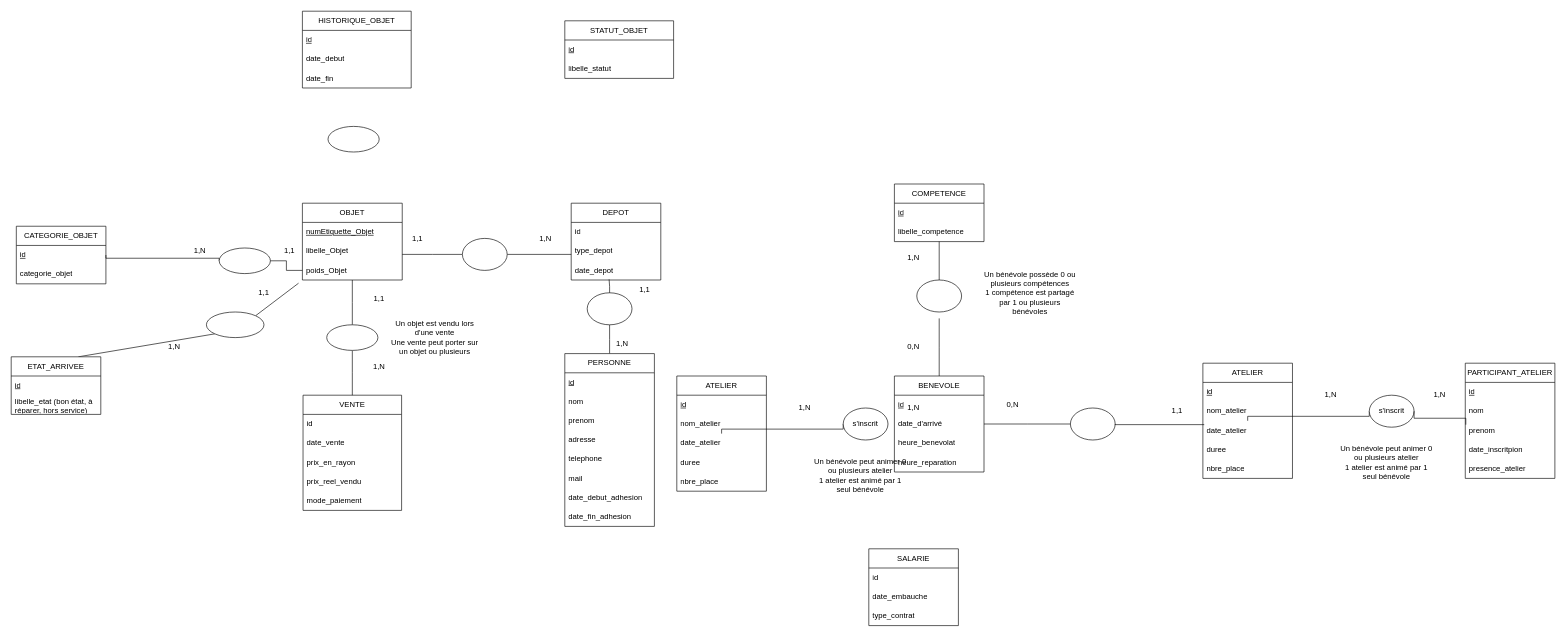
This 1566x637 diagram has some shape labels left out. The shapes that lost their labels are listed below. From the top down, each one's centre as x and y in pixels, then its label:
(x=353, y=139): trace
(x=244, y=260): appartient à
(x=484, y=254): contient
(x=609, y=308): réalise
(x=939, y=295): possede
(x=235, y=324): arrive dans
(x=352, y=337): est mis en
(x=1092, y=423): anime
